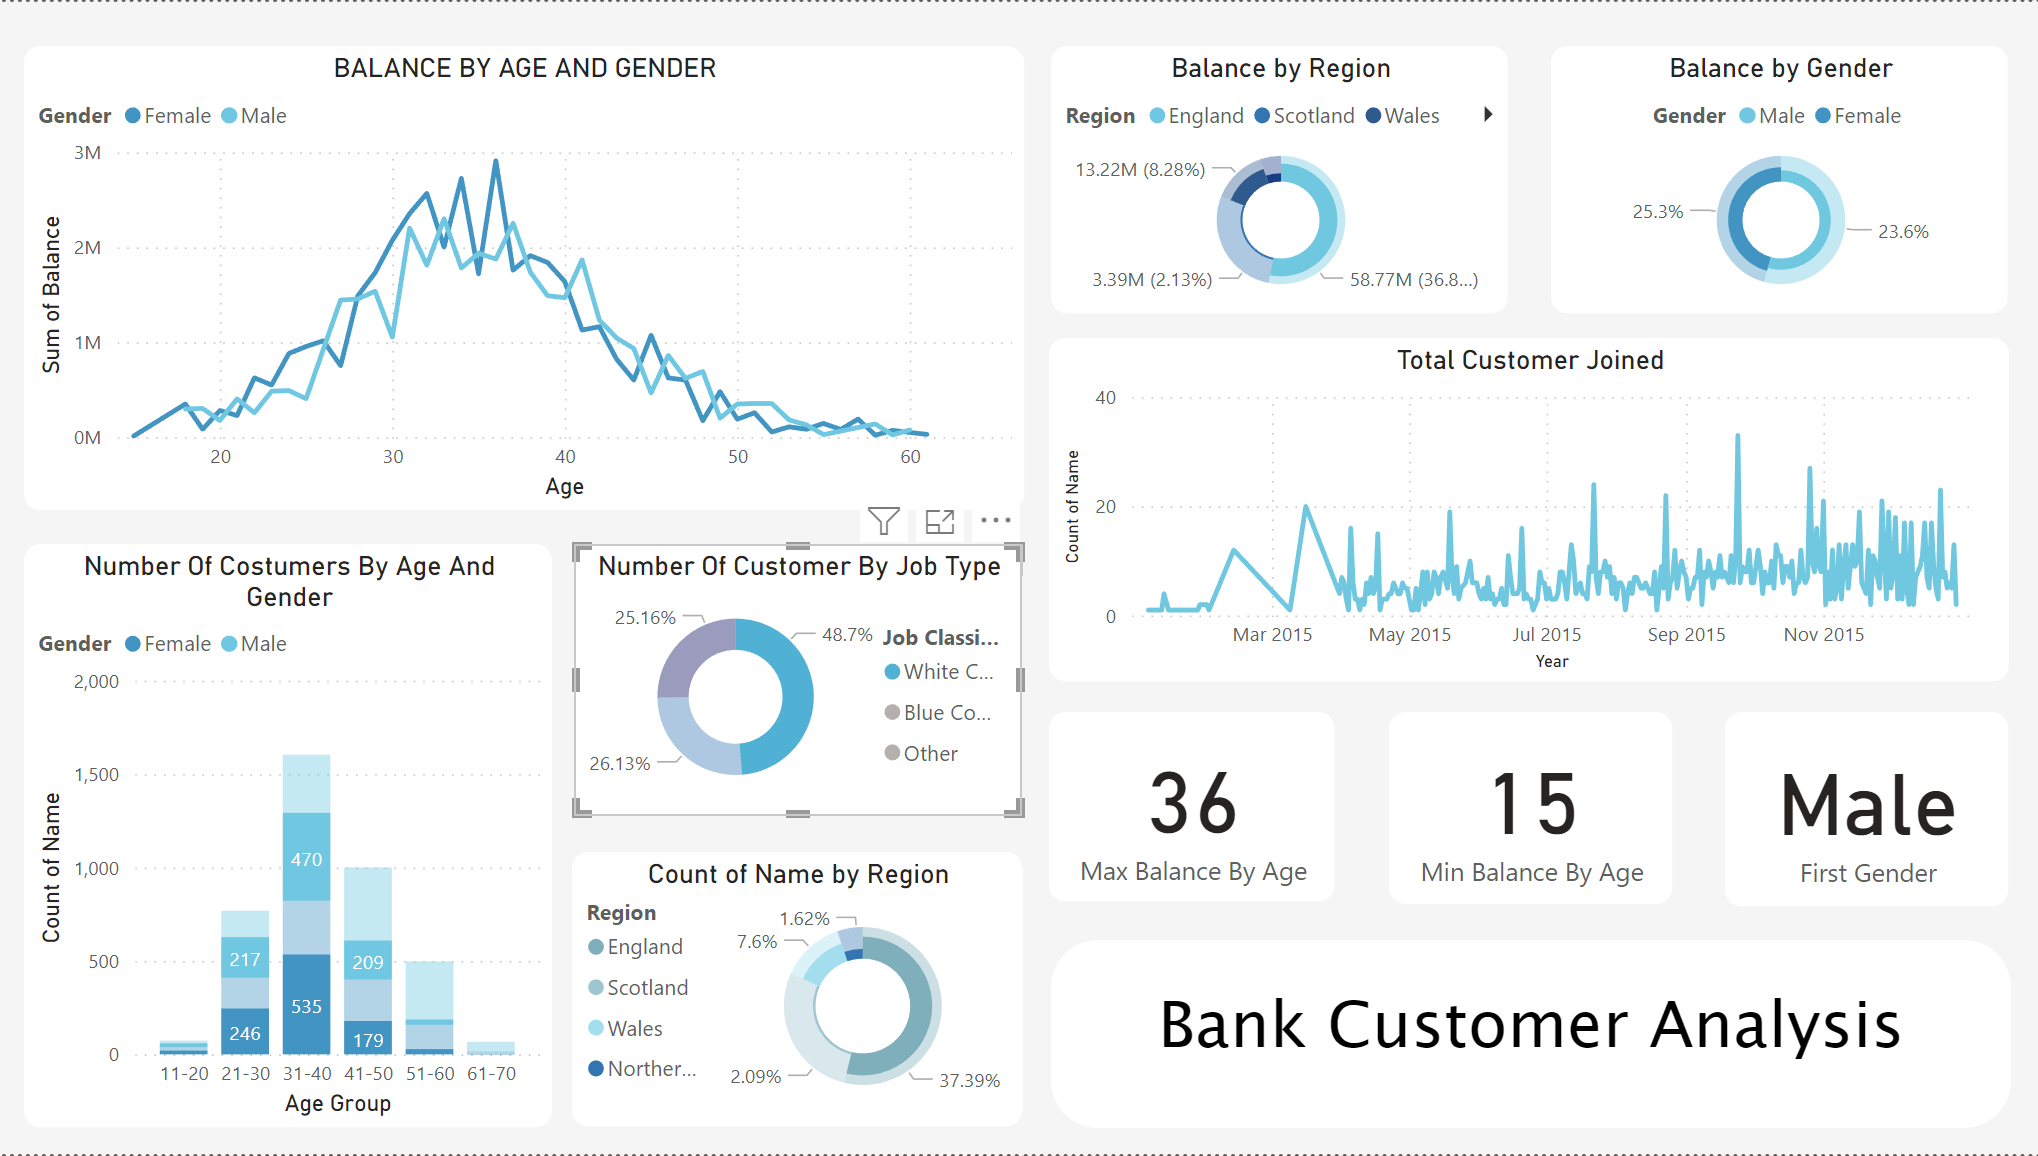

The dashboard page shown, as its layout file describes it:
{"tool":"powerbi","page":{"name":"Page 1","canvas":[1280,720],"ordinal":0},"visuals":[{"type":"lineChart","title":"BALANCE BY AGE AND GENDER","fields":{"Y":["Sum(Bank Data Analysis.Balance)"],"Category":["Bank Data Analysis.Age"],"Series":["Bank Data Analysis.Gender"]},"box":[15.7,27.1,624.3,290],"z":0},{"type":"columnChart","title":"Number Of Costumers By Age And Gender","fields":{"Category":["Bank Data Analysis.Age Group"],"Y":["CountNonNull(Bank Data Analysis.Name)"],"Series":["Bank Data Analysis.Gender"]},"box":[15.7,338.6,330,364.3],"z":1000},{"type":"donutChart","fields":{"Y":["CountNonNull(Bank Data Analysis.Name)"],"Category":["Bank Data Analysis.Region"]},"box":[358.6,531.4,281.4,171.4],"z":2000},{"type":"donutChart","title":"Balance by Region","fields":{"Y":["Sum(Bank Data Analysis.Balance)"],"Category":["Bank Data Analysis.Region"]},"box":[657.1,27.1,285.7,167.1],"z":3000},{"type":"donutChart","title":"Number Of Customer By Job Type ","fields":{"Category":["Bank Data Analysis.Job Classification"],"Y":["CountNonNull(Bank Data Analysis.Name)"]},"box":[360,338.6,280,170],"z":4000},{"type":"donutChart","title":"Balance by Gender","fields":{"Category":["Bank Data Analysis.Gender"],"Y":["Sum(Bank Data Analysis.Balance)"]},"box":[970,27.1,285.7,167.1],"z":5000},{"type":"lineChart","title":"Total Customer Joined","fields":{"Category":["Bank Data Analysis.Date Joined.Variation.Date Hierarchy.Year","Bank Data Analysis.Date Joined.Variation.Date Hierarchy.Quarter","Bank Data Analysis.Date Joined.Variation.Date Hierarchy.Month","Bank Data Analysis.Date Joined.Variation.Date Hierarchy.Day"],"Y":["CountNonNull(Bank Data Analysis.Name)"]},"box":[655.7,210,600,214.3],"z":6000},{"type":"card","fields":{"Values":["Max(Bank Data Analysis.Age)"]},"box":[655.7,444.3,178.6,118.6],"z":7000},{"type":"card","fields":{"Values":["Min(Bank Data Analysis.Age)"]},"box":[868.6,444.3,177.1,120],"z":8000},{"type":"card","fields":{"Values":["Min(Bank Data Analysis.Gender)"]},"box":[1078.6,444.3,177.1,121.4],"z":9000},{"type":"shape","box":[657.5,586.2,600,117.5],"z":9001}]}

Visuals, with their boxes in screenshot pixels (x1, y1, x2, y2), scaled from the page's 1280x720 canvas onto the 2038x1156 screenshot:
"BALANCE BY AGE AND GENDER" lineChart: detection(25, 44, 1019, 509)
"Number Of Costumers By Age And Gender" columnChart: detection(25, 544, 550, 1129)
donutChart - CountNonNull(Bank Data Analysis.Name) x Bank Data Analysis.Region: detection(571, 853, 1019, 1128)
"Balance by Region" donutChart: detection(1046, 44, 1501, 312)
"Number Of Customer By Job Type " donutChart: detection(573, 544, 1019, 817)
"Balance by Gender" donutChart: detection(1544, 44, 1999, 312)
"Total Customer Joined" lineChart: detection(1044, 337, 1999, 681)
card - Max(Bank Data Analysis.Age): detection(1044, 713, 1328, 904)
card - Min(Bank Data Analysis.Age): detection(1383, 713, 1665, 906)
card - Min(Bank Data Analysis.Gender): detection(1717, 713, 1999, 908)
shape: detection(1047, 941, 2002, 1130)
